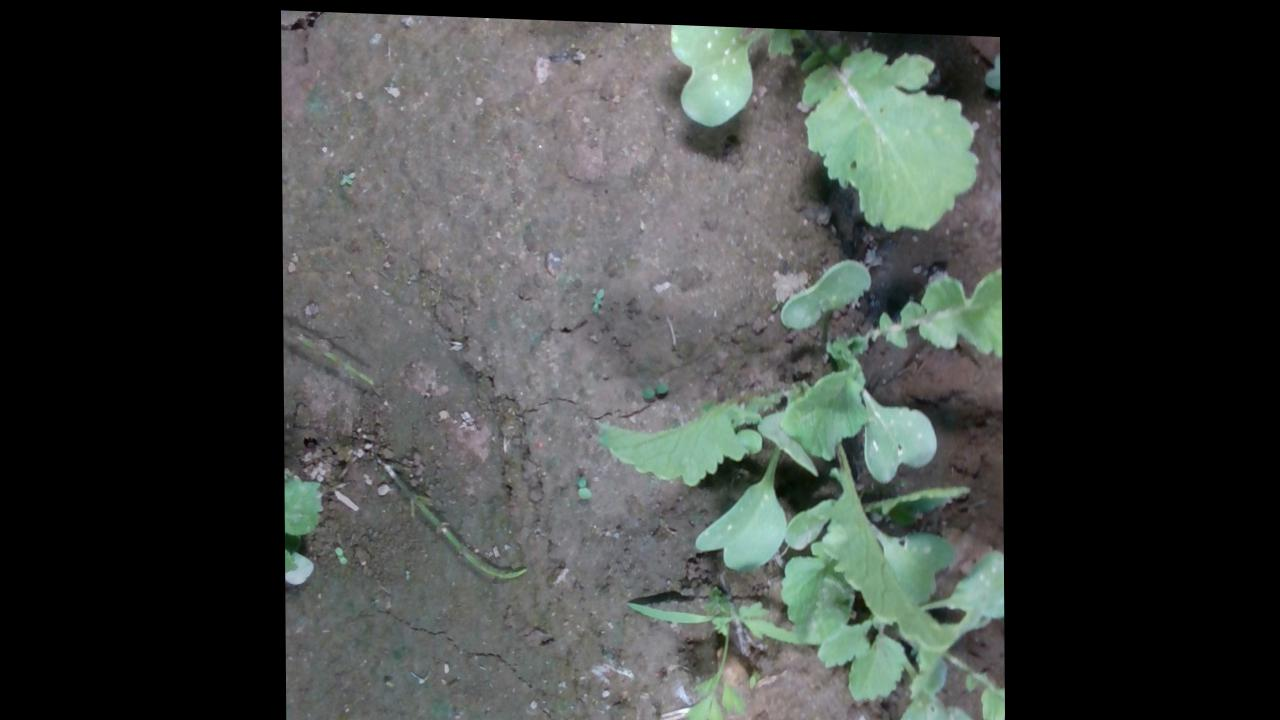weed: (590, 281, 607, 309), (641, 376, 668, 393), (576, 468, 593, 494), (338, 167, 358, 182), (334, 543, 347, 562)
